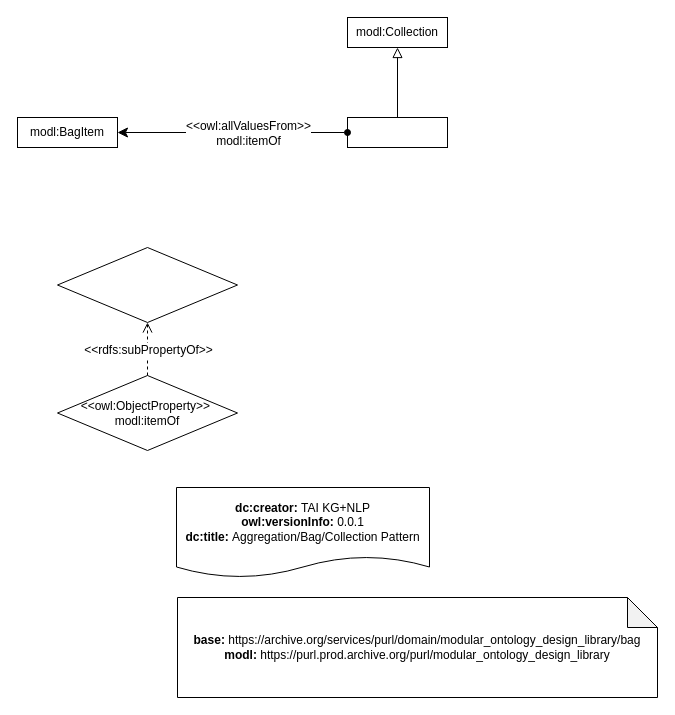
Image size: 675x715. Some labels were removed from this diagram. Each missing label, with the centre of its shape:
"<<owl:ObjectProperty>> modl:PoMember" belongs at (147,284).
"modl:Bag" belongs at (397,132).
